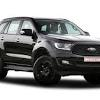Ford: (1, 16, 100, 86)
